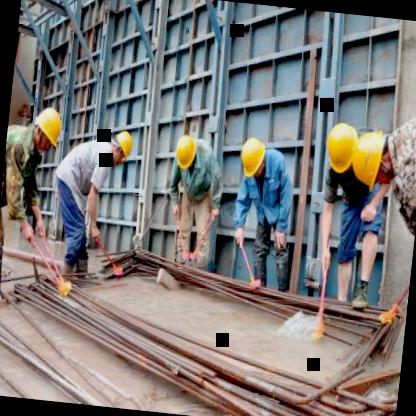helmet: (349, 122, 393, 195), (322, 117, 362, 183), (29, 104, 64, 158), (235, 132, 270, 182), (170, 132, 202, 175), (105, 127, 134, 168)
